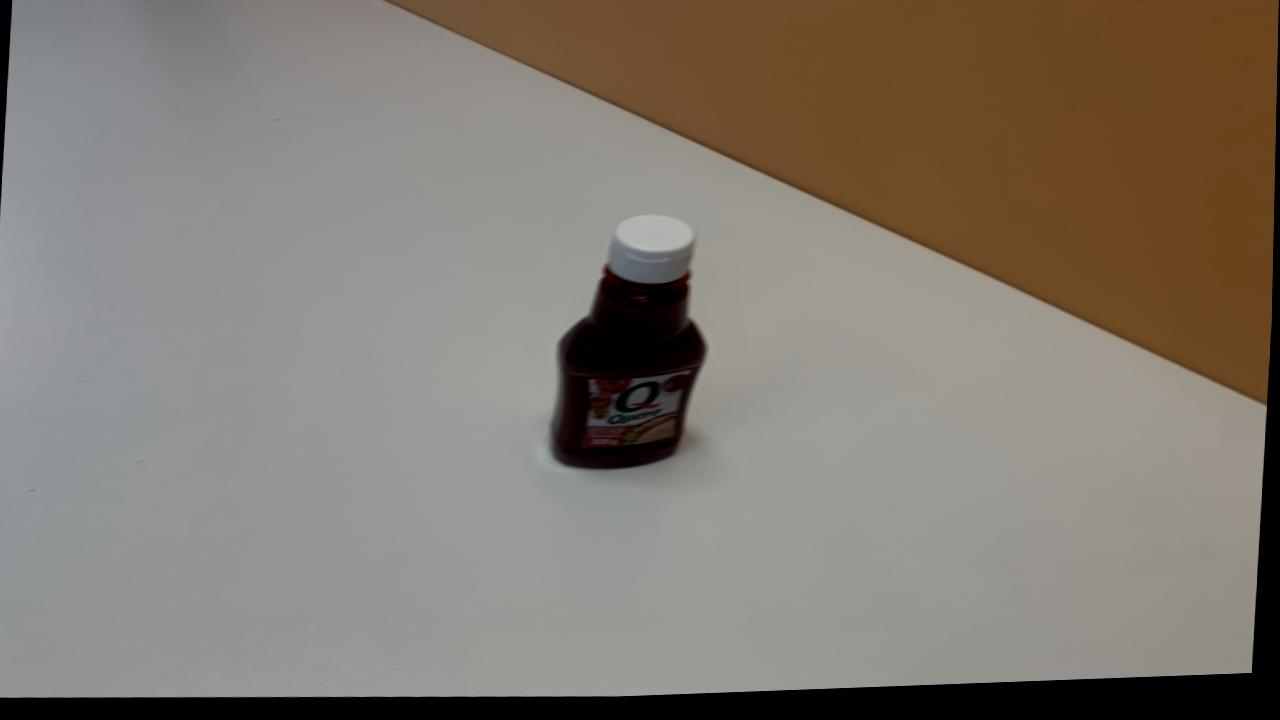Ketchup-Pantry_Items: (550, 221, 710, 477)
